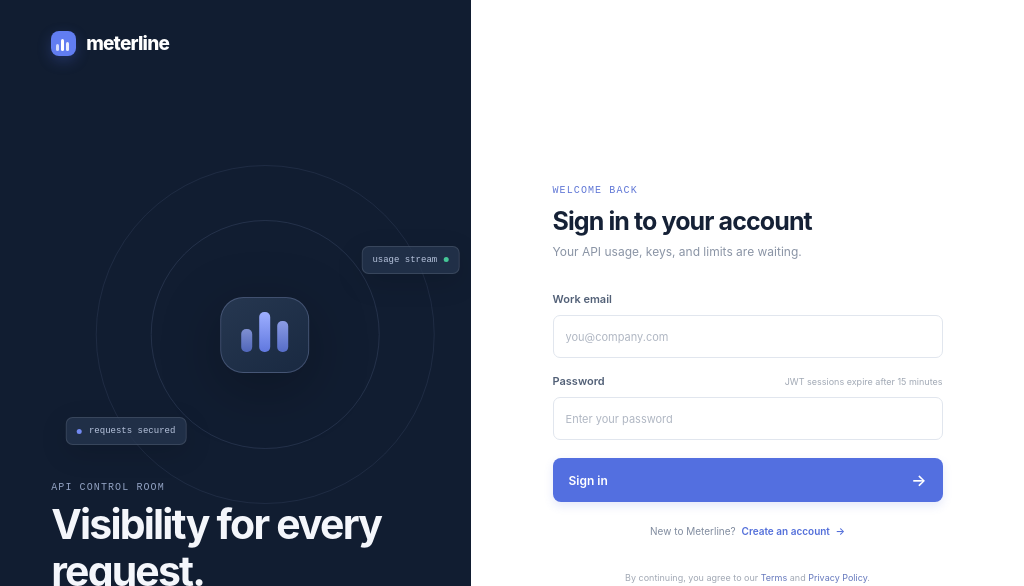
authentication and protected routes › validates the login form and signs in against the real API contract
Click the button "Sign in →" at (588, 480), box x1=552 y1=458 x2=942 y2=502
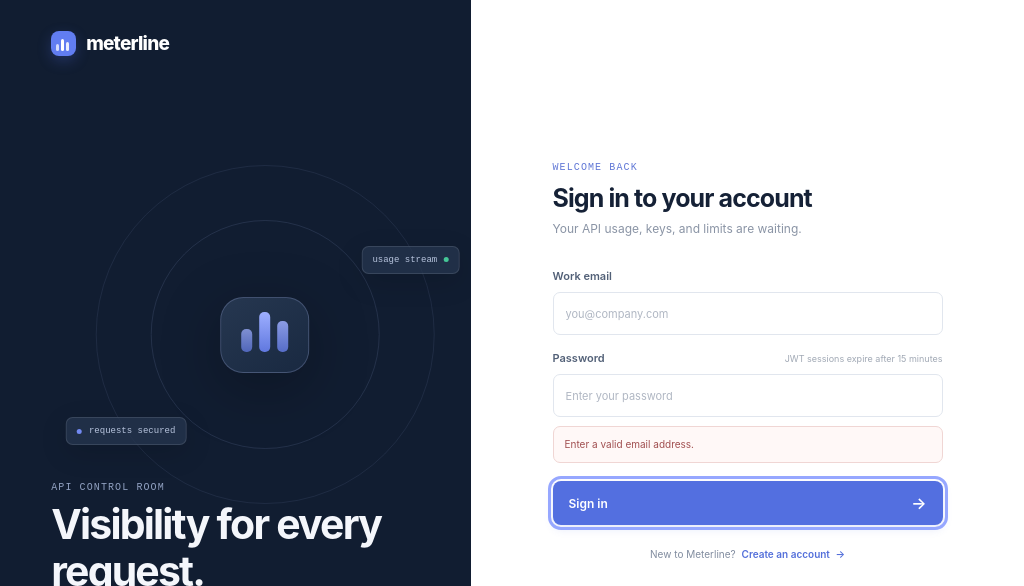
Expected: the message reads "Enter a valid email address.", x1=564 y1=438 x2=694 y2=450
Type "riley@example.test" into the field labelled "Work email" at (748, 314), box x1=552 y1=292 x2=942 y2=335
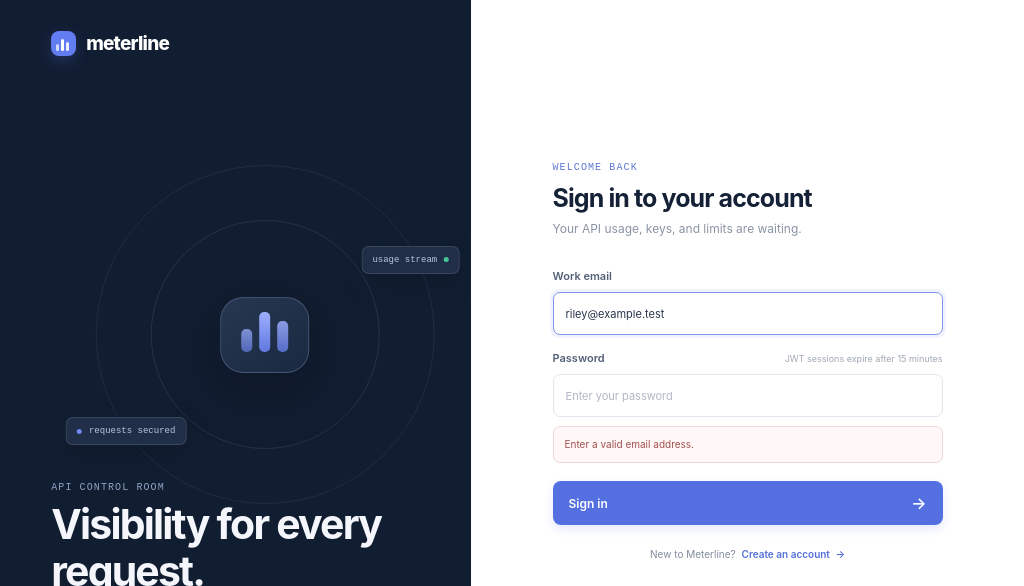
Type "correct-horse-battery-staple" into the password field labelled "Password" at (748, 396), box x1=552 y1=374 x2=942 y2=417
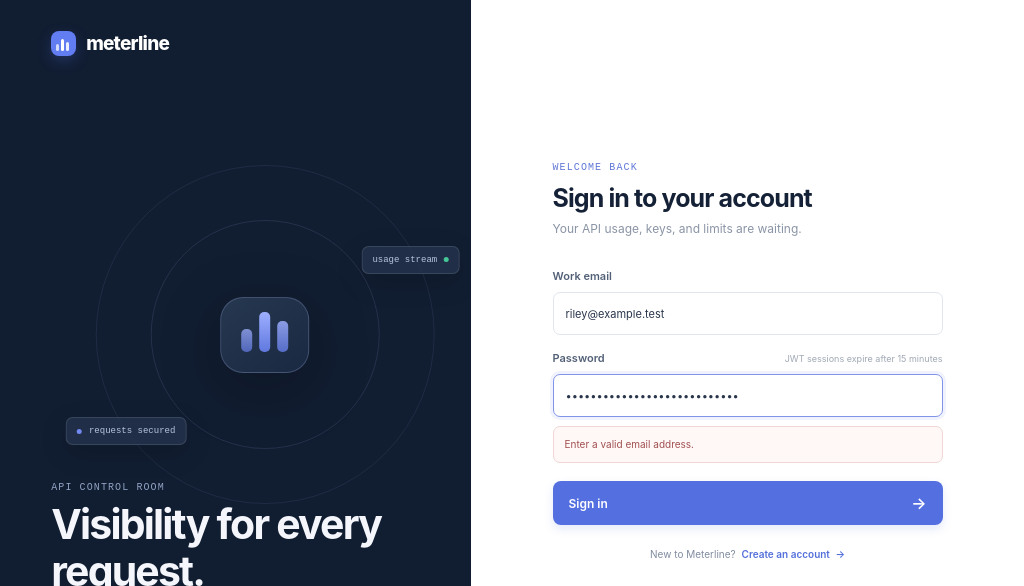
Click the button "Sign in →" at (588, 503), box x1=552 y1=481 x2=942 y2=525
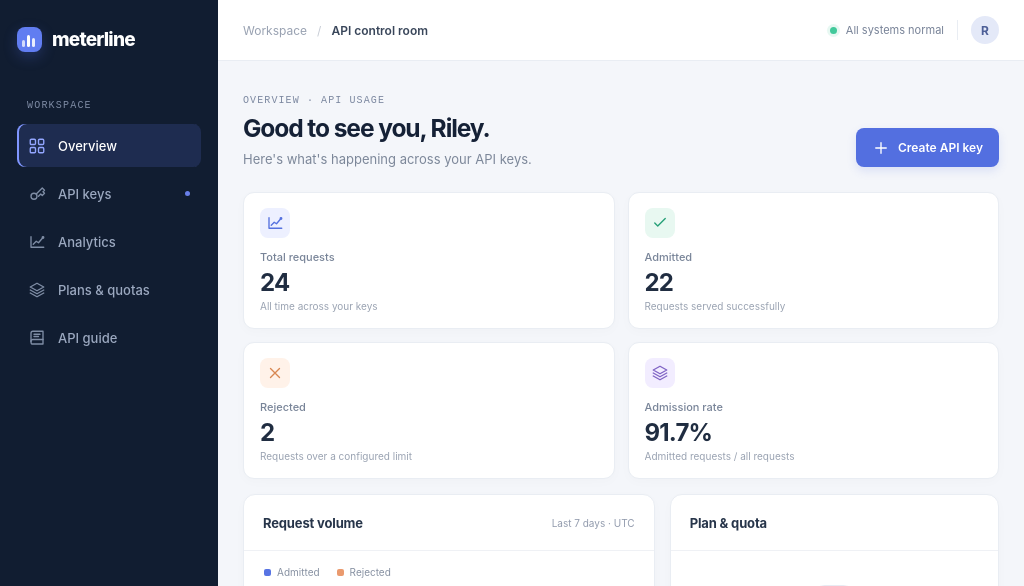
Expected: the text "24" is shown, x1=260 y1=268 x2=289 y2=298
Expected: the heading "Good to see you, Riley." is shown, x1=243 y1=114 x2=532 y2=144
